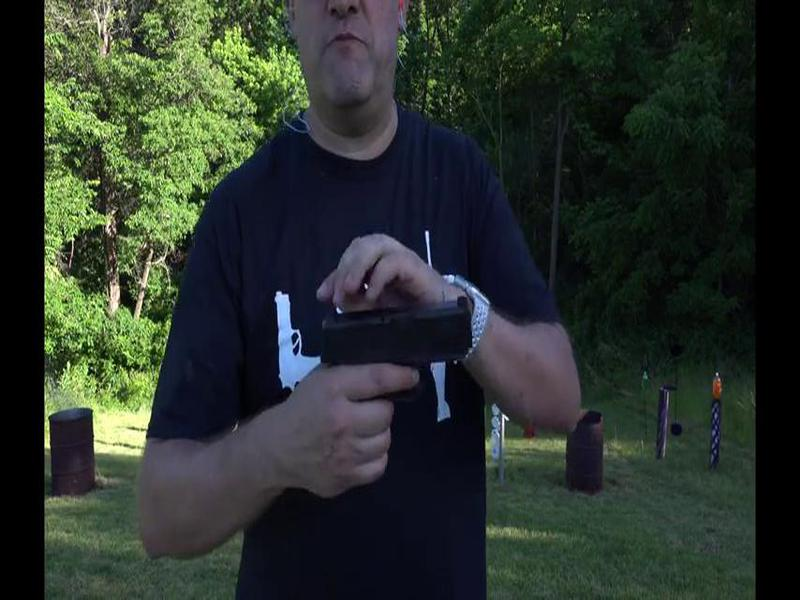Pistola: (308, 291, 489, 413)
